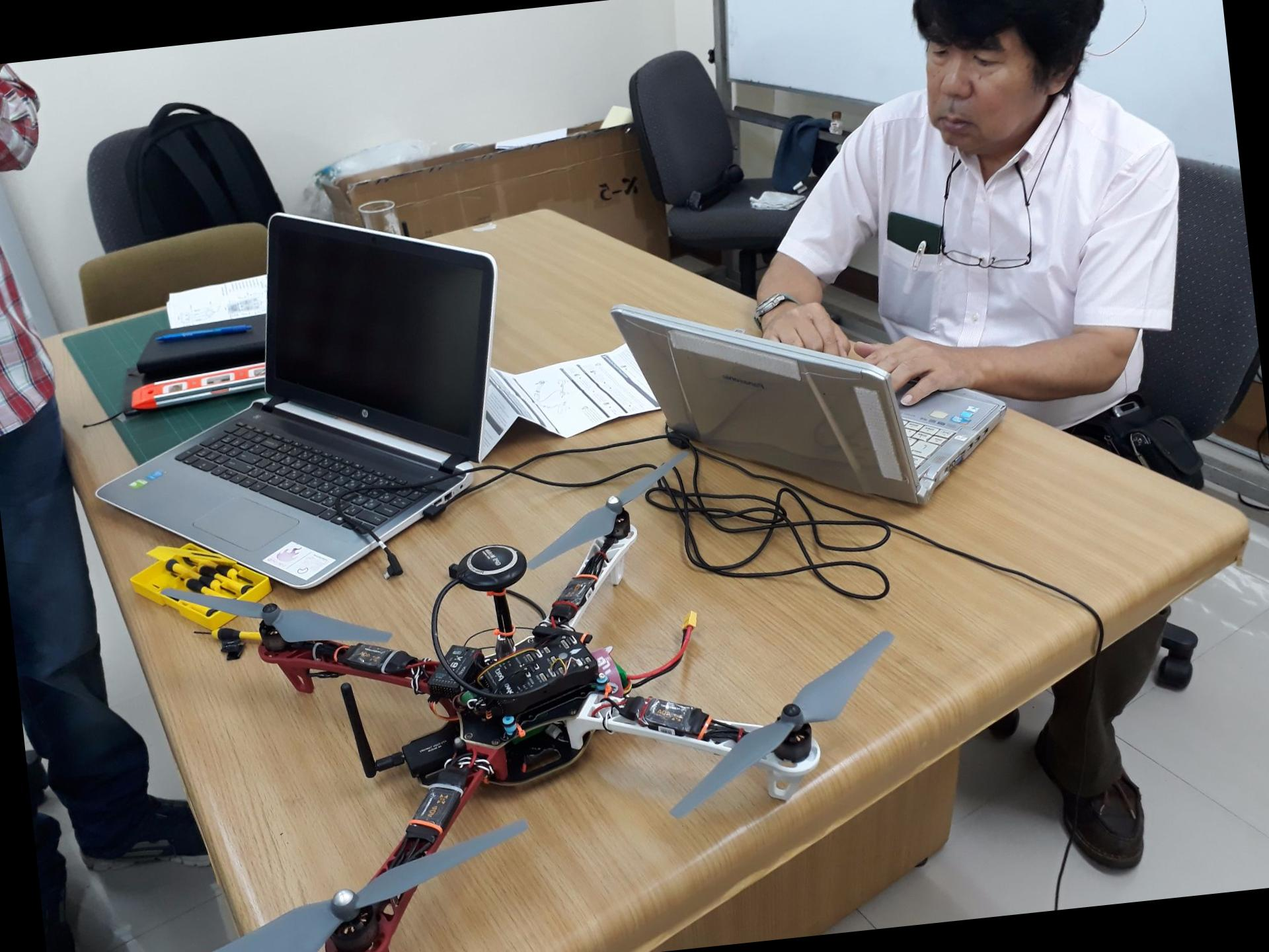drone: (61, 403, 944, 952)
